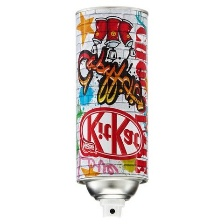aerosol_cans: (68, 2, 153, 220)
